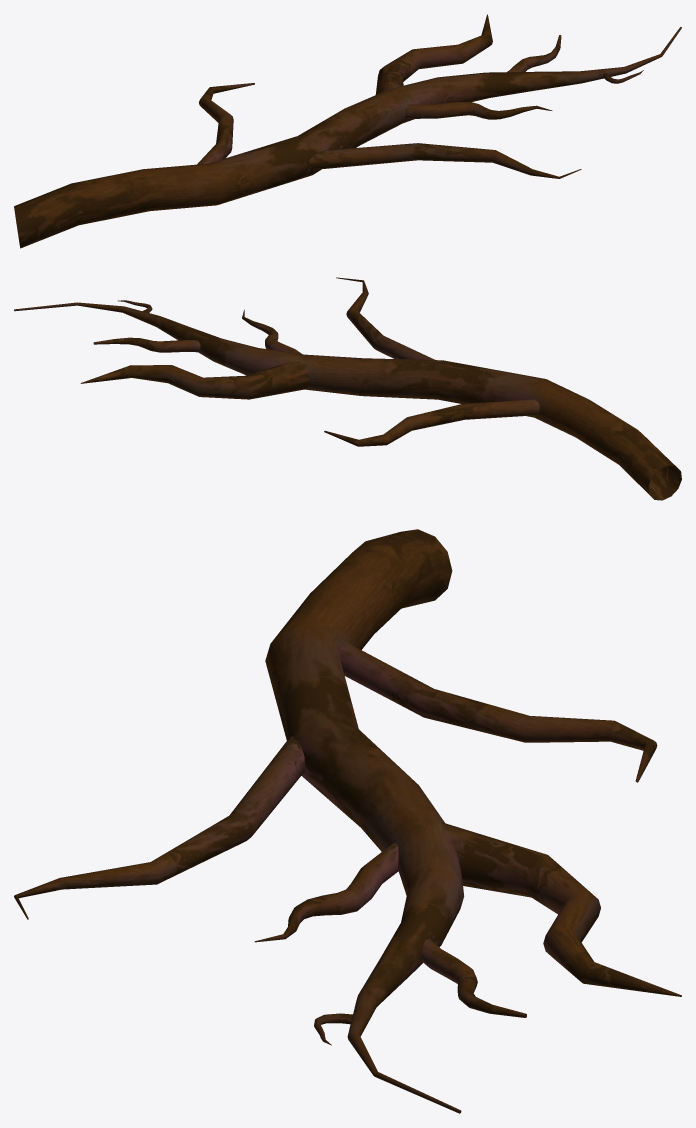
File: Roots1.fbx
The picture shows the model from 3 angles, top to bottom: view 1: azimuth 30°, elevation 25°; view 2: azimuth 150°, elevation 25°; view 3: azimuth 270°, elevation 25°; orthographic projection. The views are drawn at different scales.
Parts seen in each view (by area): view 1: NurbsPath.005, NurbsPath.006, NurbsPath.007, NurbsPath.009, NurbsPath.010, NurbsPath.008; view 2: NurbsPath.005, NurbsPath.007, NurbsPath.010, NurbsPath.006, NurbsPath.008, NurbsPath.009; view 3: NurbsPath.005, NurbsPath.007, NurbsPath.010, NurbsPath.006, NurbsPath.009, NurbsPath.008.
Part boxes in pixels (x1,y1,x2,y2): NurbsPath.005: (14,27,681,248); NurbsPath.006: (309,143,581,178); NurbsPath.007: (375,14,492,94); NurbsPath.009: (405,101,552,119); NurbsPath.010: (197,83,254,164); NurbsPath.008: (507,35,561,72); NurbsPath.005: (14,302,681,500); NurbsPath.007: (80,360,308,399); NurbsPath.010: (324,399,539,446); NurbsPath.006: (336,277,434,359); NurbsPath.008: (93,337,200,352); NurbsPath.009: (242,309,301,354); NurbsPath.005: (265,529,464,1113); NurbsPath.007: (439,822,681,996); NurbsPath.010: (339,642,657,782); NurbsPath.006: (14,736,304,919); NurbsPath.009: (254,843,398,942); NurbsPath.008: (422,939,526,1017).
Bounding box in the file's own units: 7101 × 642 × 3335.
